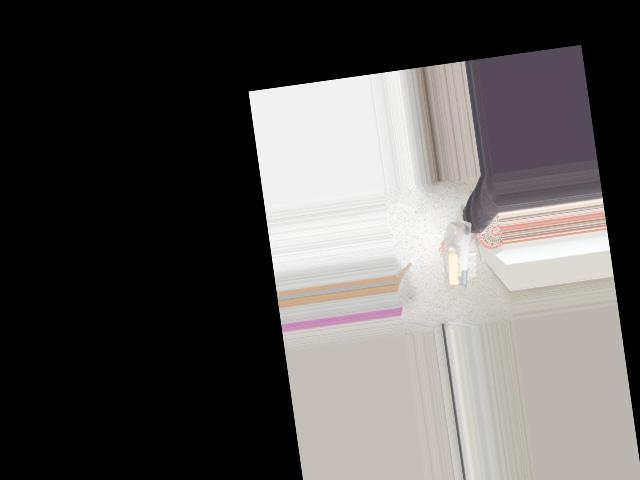cheese: (437, 215, 482, 288)
